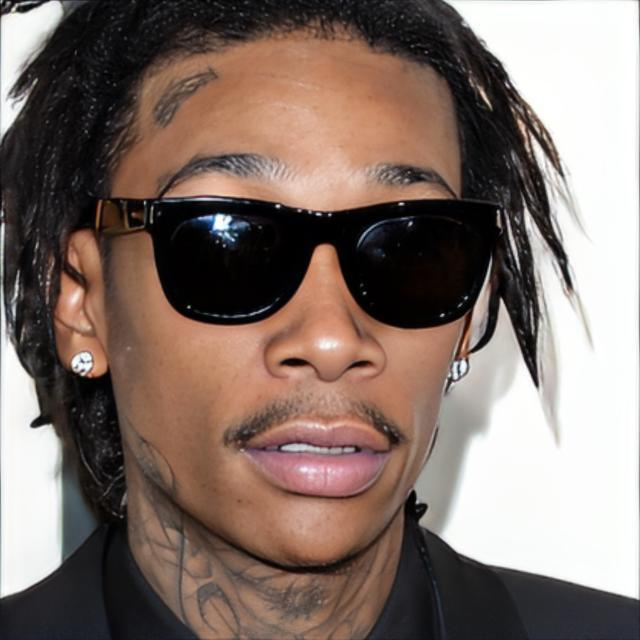neutral: (106, 23, 474, 569)
